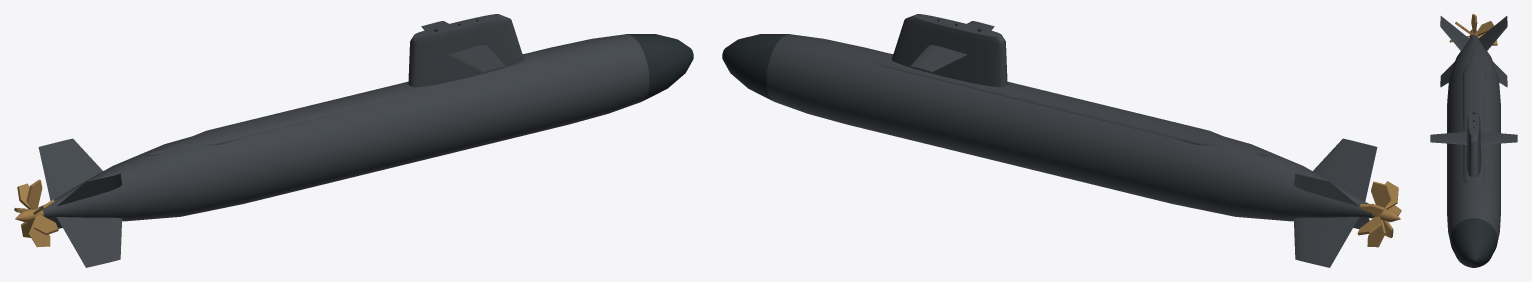
Rendered from swe_ssk_gotland.glb.
3 renders of one model, left to right at view 1: azimuth 30°, elevation 25°; view 2: azimuth 150°, elevation 25°; view 3: azimuth 270°, elevation 25°, orthographic. The views are drawn at different scales.
Visible parts, largest first — view 1: submarine_coating, boot_topping, bronze; view 2: submarine_coating, boot_topping, bronze; view 3: submarine_coating, boot_topping, bronze.
Part boxes in pixels (x1,y1,x2,y2): submarine_coating: [38, 14, 649, 267]; boot_topping: [434, 19, 693, 100]; bronze: [14, 179, 58, 247]; submarine_coating: [766, 14, 1377, 267]; boot_topping: [722, 19, 981, 100]; bronze: [1357, 181, 1401, 247]; submarine_coating: [1430, 16, 1517, 241]; boot_topping: [1450, 112, 1497, 267]; bronze: [1449, 14, 1497, 45].
Size of the model in its own units: 10 by 1.83 by 1.59.
